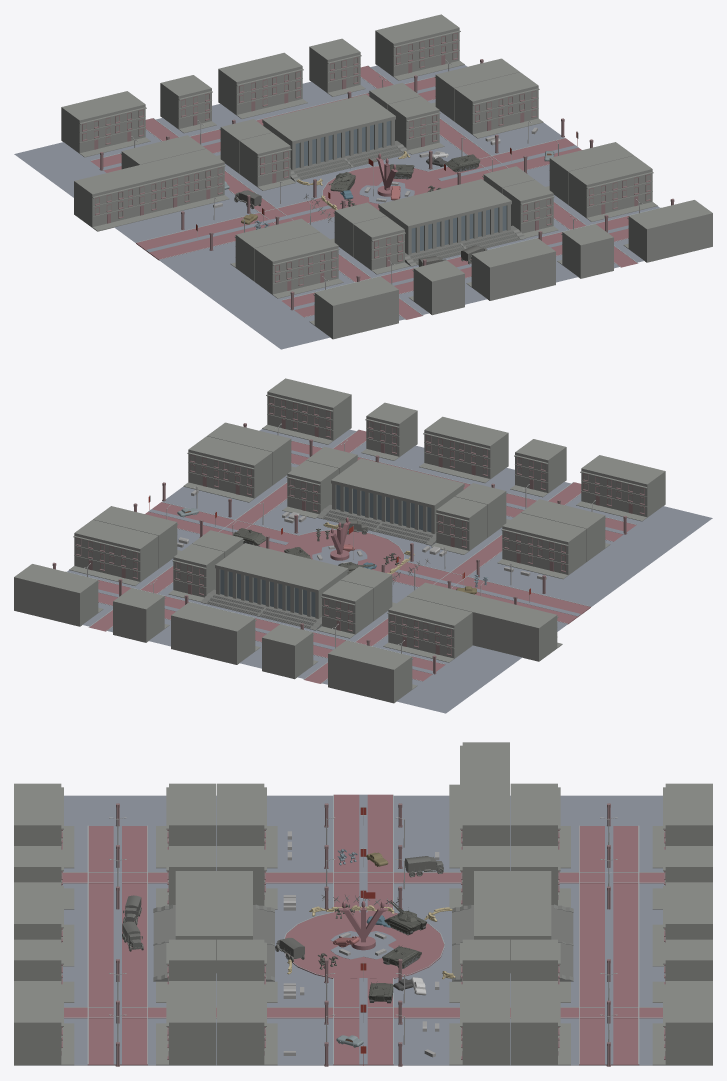
File: Level.fbx
3 views of the same model, one above another, from view 1: azimuth 30°, elevation 25°; view 2: azimuth 150°, elevation 25°; view 3: azimuth 270°, elevation 25° (orthographic). The views are drawn at different scales.
Visible parts, largest first — view 1: group9_Flag_Flag1; view 2: group9_Flag_Flag1; view 3: group9_Flag_Flag1.
Part boxes in pixels (x1,y1,x2,y2): group9_Flag_Flag1: (14,14,712,349); group9_Flag_Flag1: (14,378,712,713); group9_Flag_Flag1: (14,742,712,1066).
Bounding box in the file's own units: 54.18 × 4.17 × 56.92.
